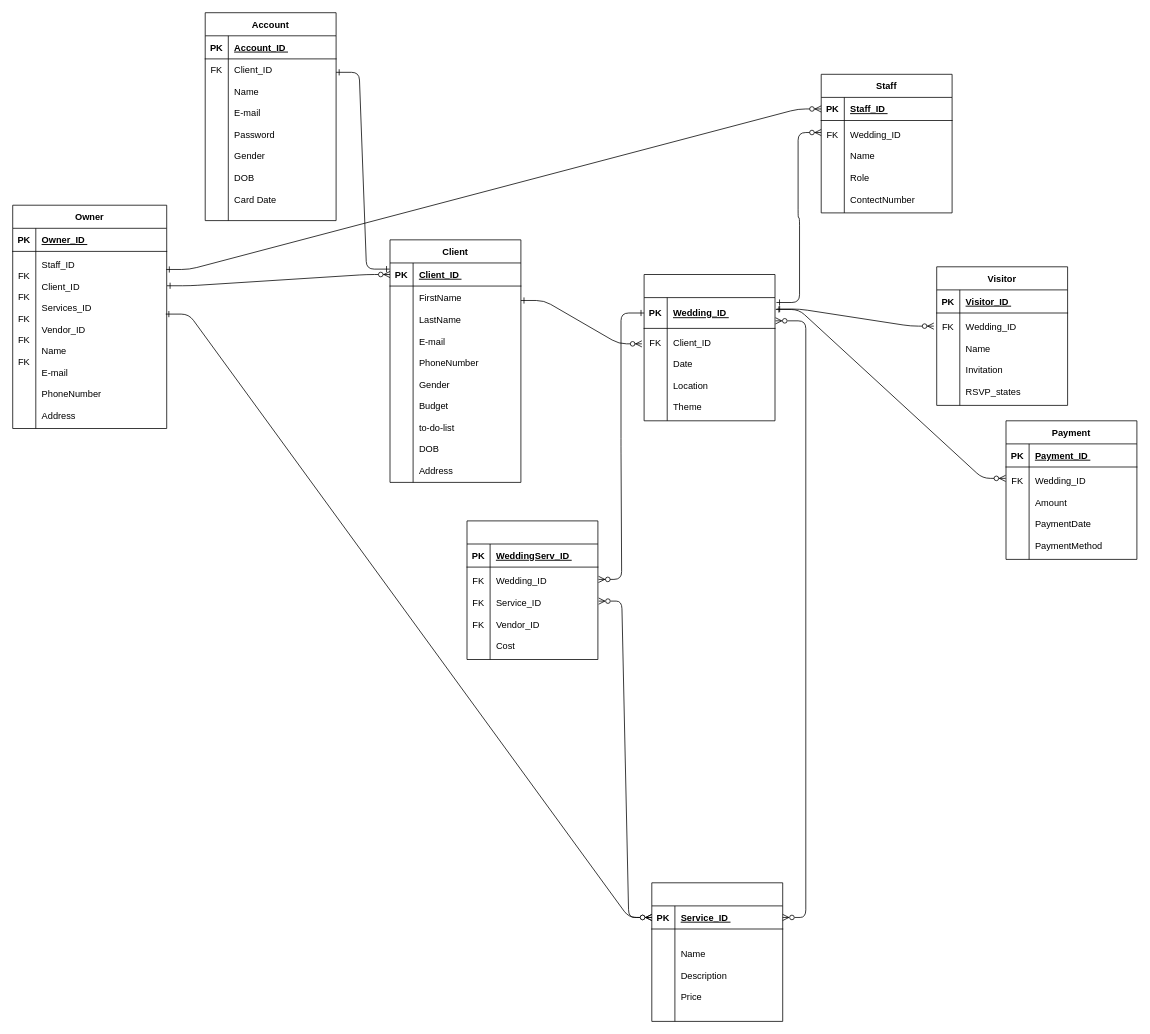
This 1150x1034 diagram has some shape labels left out. The box of each missing label's shape, as (x1, y1, x2, y2) in pixels:
Services: (651, 882, 783, 1021)
Wedding Services: (466, 520, 598, 660)
Weddings: (643, 274, 775, 421)
